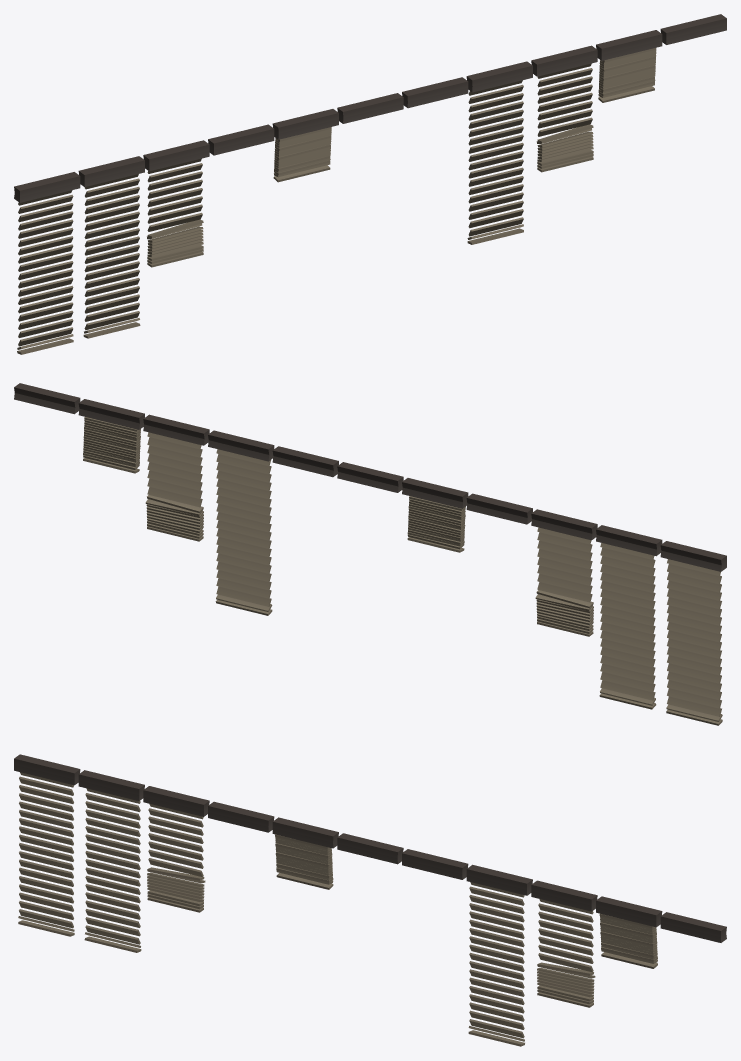
Rendered from window_covers.fbx.
3 renders of one model, top to bottom at view 1: azimuth 30°, elevation 25°; view 2: azimuth 150°, elevation 25°; view 3: azimuth 330°, elevation 25°, orthographic.
Visible parts, largest first — view 1: Plane; view 2: Plane; view 3: Plane.
Part boxes in pixels (<box>): Plane: <box>14,14,726,354</box>; Plane: <box>14,383,726,725</box>; Plane: <box>14,754,726,1046</box>.
Size of the model in its own units: 1022 by 231 by 17.26.
